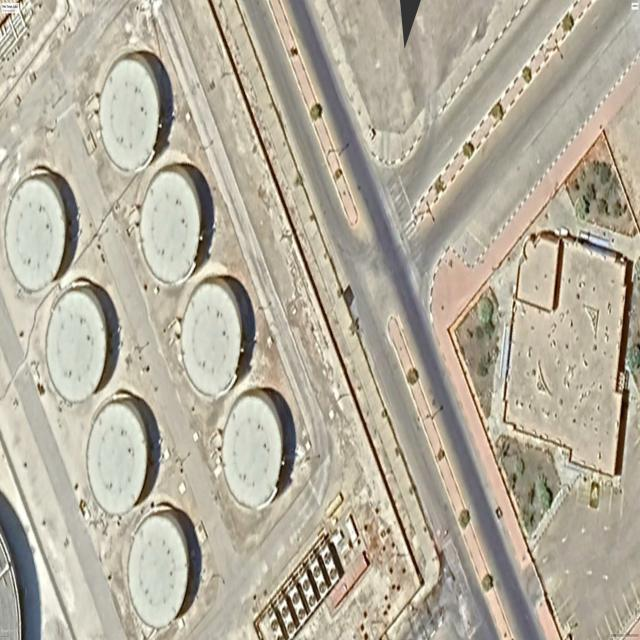Oil Rafinery: (99, 53, 161, 172), (181, 279, 242, 398), (140, 165, 201, 284), (222, 390, 283, 509), (4, 174, 66, 291), (128, 511, 190, 628), (46, 287, 107, 403), (87, 400, 148, 515)
